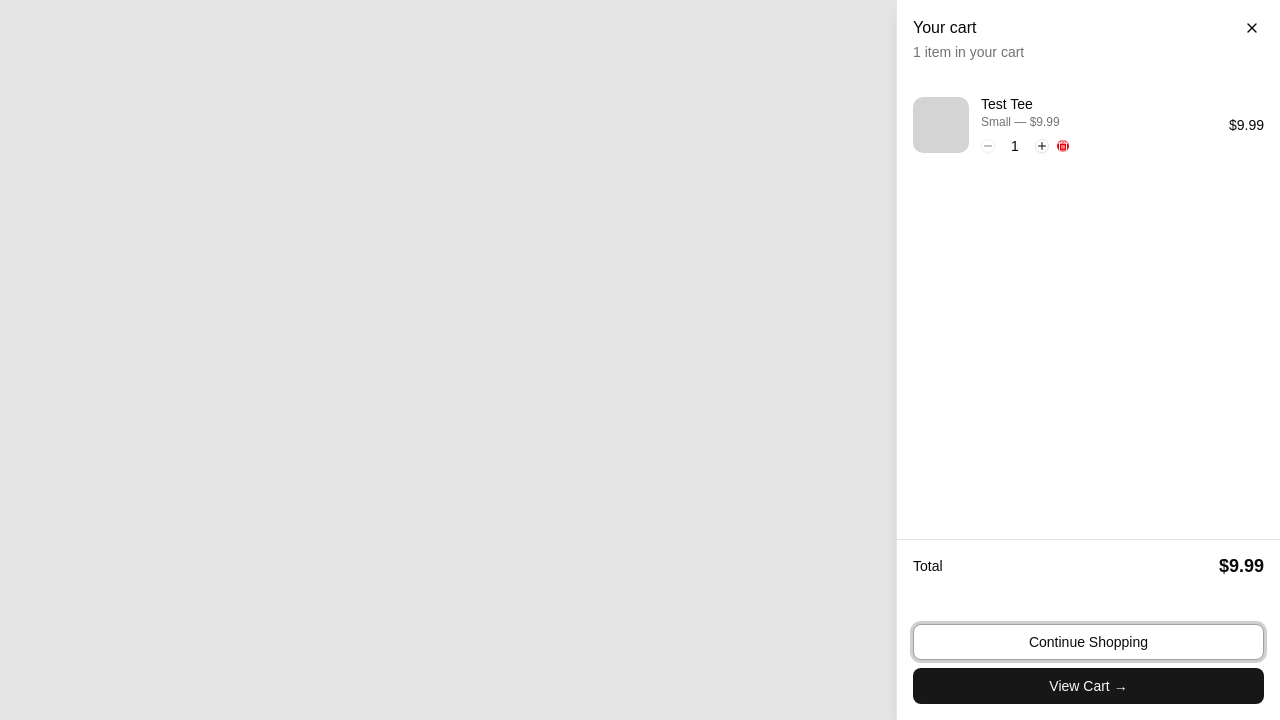
Test: CartSheet › removes an item directly when its quantity is one
Click the button named "Remove Test Tee" at (1063, 146), box [1057,140,1069,152]
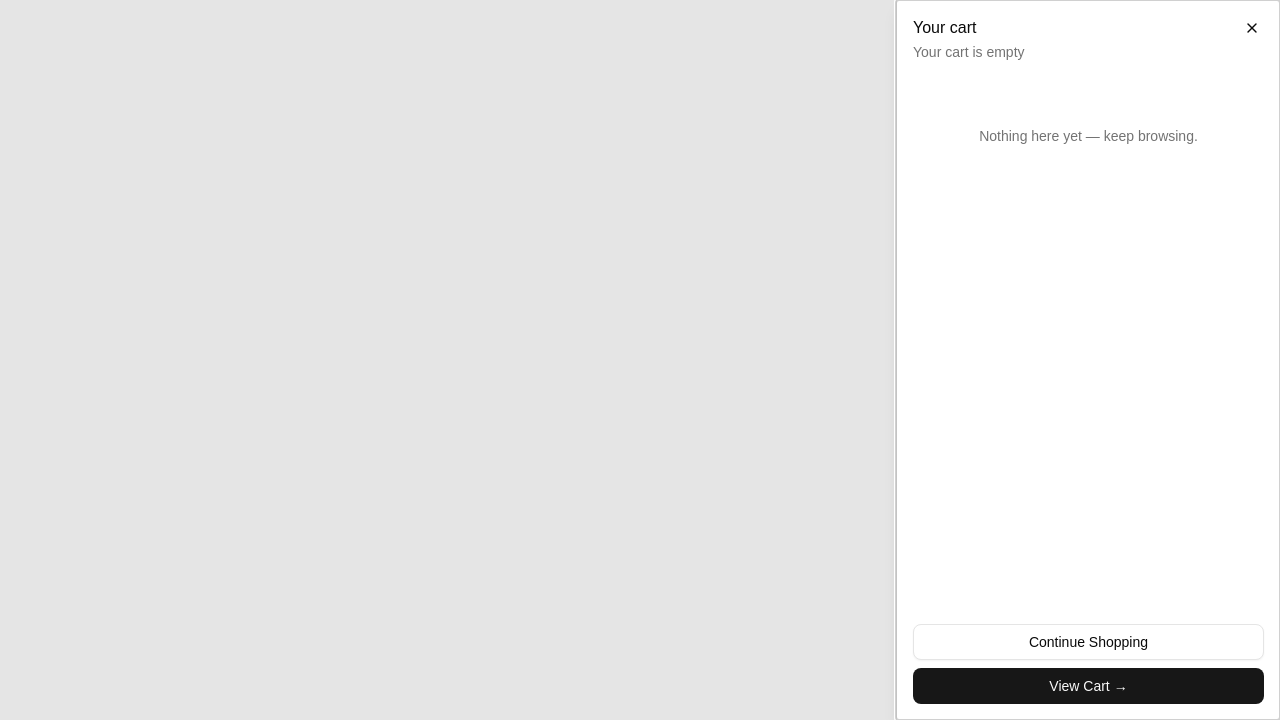
Check: the text "Nothing here yet — keep browsing." is shown, box [979,128,1198,144]
